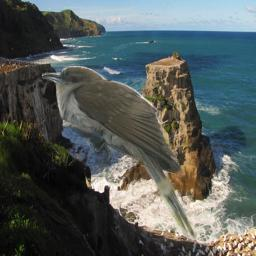Cuckoo: (42, 66, 197, 242)
